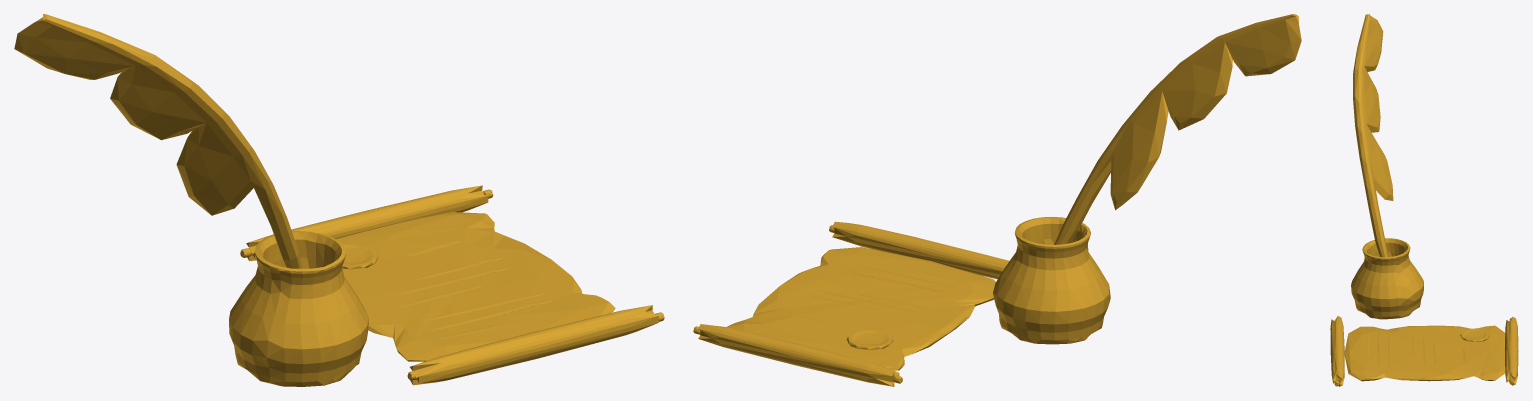
The model's file is literature.glb.
3 renders of one model, left to right at view 1: azimuth 30°, elevation 25°; view 2: azimuth 150°, elevation 25°; view 3: azimuth 270°, elevation 25°, orthographic. The views are drawn at different scales.
Parts seen in each view (by area): view 1: literature__orient; view 2: literature__orient; view 3: literature__orient.
Boxes of the visible parts, x1,y1,x2,y2 form: literature__orient: [14, 14, 664, 386]; literature__orient: [693, 14, 1301, 386]; literature__orient: [1330, 14, 1518, 386].
Size of the model in its own units: 1 by 0.6839 by 0.5142.
